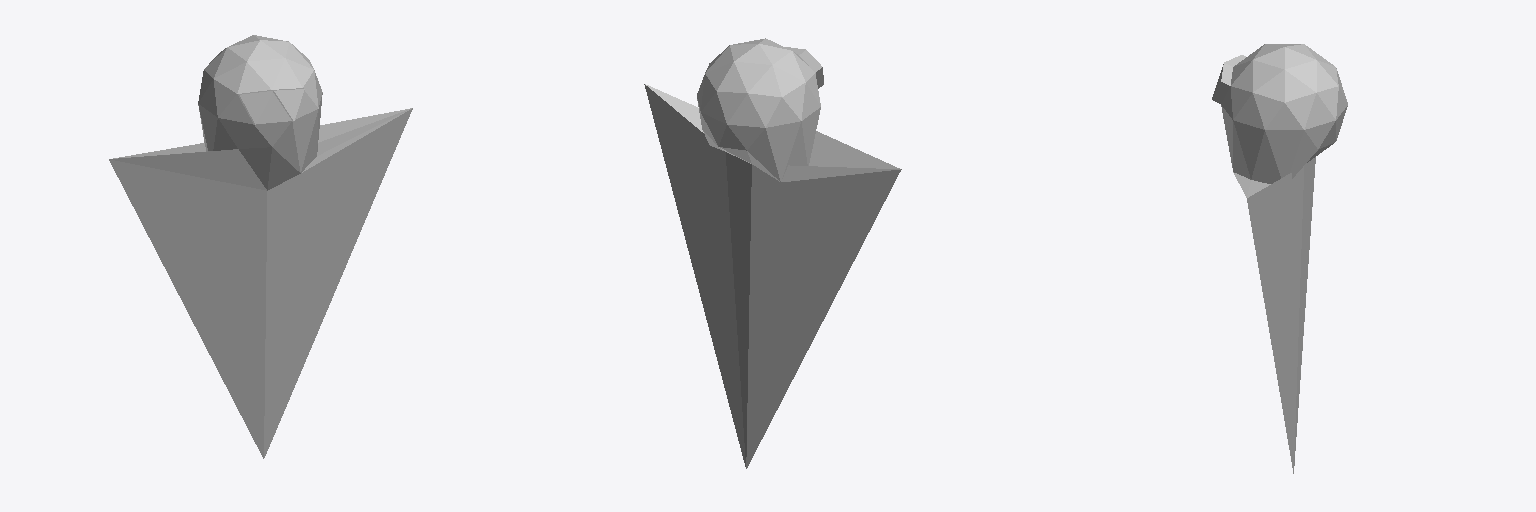
Rendered from enemy.obj.
3 renders of one model, left to right at view 1: azimuth 30°, elevation 25°; view 2: azimuth 150°, elevation 25°; view 3: azimuth 270°, elevation 25°, orthographic.
Visible parts, largest first — view 1: Icosphere; view 2: Icosphere; view 3: Icosphere.
Boxes of the visible parts, x1=… form: Icosphere: x1=109, y1=35, x2=412, y2=458; Icosphere: x1=644, y1=38, x2=901, y2=468; Icosphere: x1=1212, y1=44, x2=1347, y2=473.
Size of the model in its own units: 2.42 by 3.49 by 1.02.